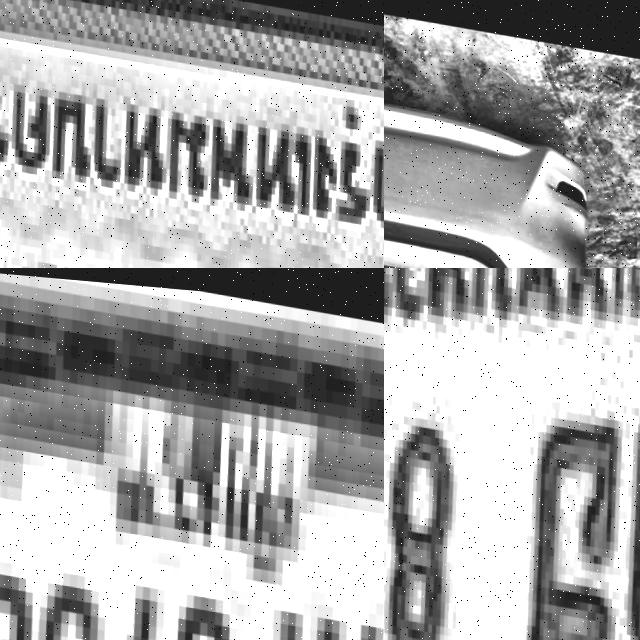license-plate: (0, 268, 384, 640), (0, 0, 384, 268), (384, 268, 640, 640)
